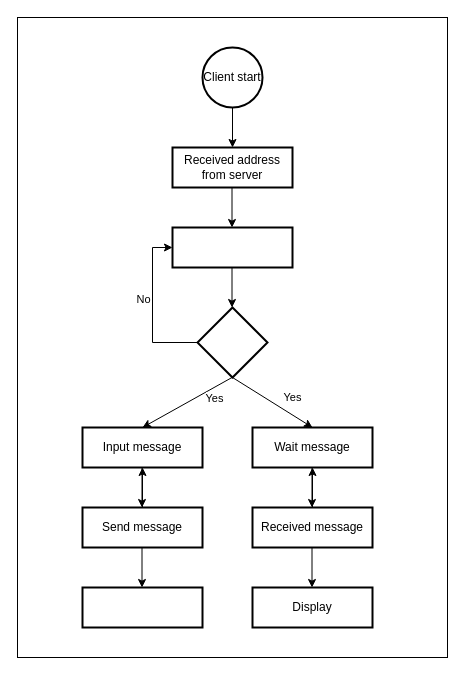
This 465x675 diagram has some shape labels left out. The shapes that lost their labels are listed below. From the top down, each one's centre as x and y in pixels, then its label:
At (x=232, y=247): "Request".
At (x=232, y=342): "Accept".
At (x=142, y=607): "Deliver message to clients".
